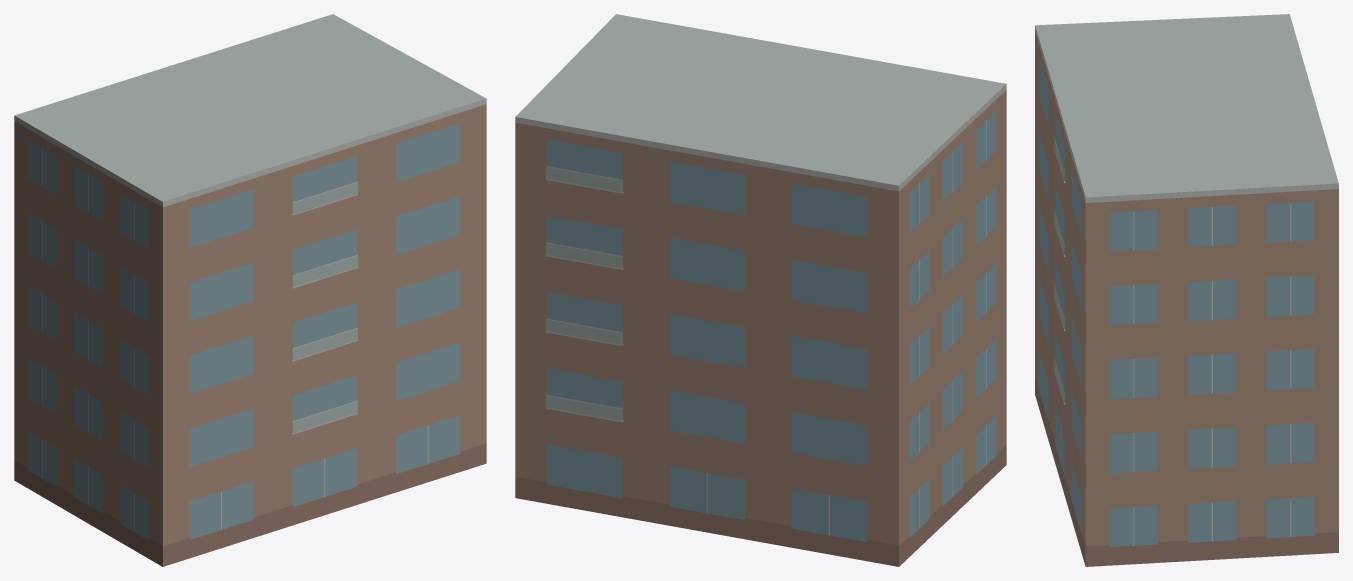
Rendered from survey-upis-32744006.glb.
3 renders of one model, left to right at view 1: azimuth 30°, elevation 25°; view 2: azimuth 150°, elevation 25°; view 3: azimuth 270°, elevation 25°, orthographic. The views are drawn at different scales.
Parts seen in each view (by area): view 1: survey-upis-32744006.tmp; view 2: survey-upis-32744006.tmp; view 3: survey-upis-32744006.tmp.
Boxes of the visible parts, bbox=[...] form: survey-upis-32744006.tmp: bbox=[14, 14, 486, 566]; survey-upis-32744006.tmp: bbox=[515, 14, 1006, 566]; survey-upis-32744006.tmp: bbox=[1035, 14, 1338, 566].
Size of the model in its own units: 17.17 by 16.1 by 12.01.
